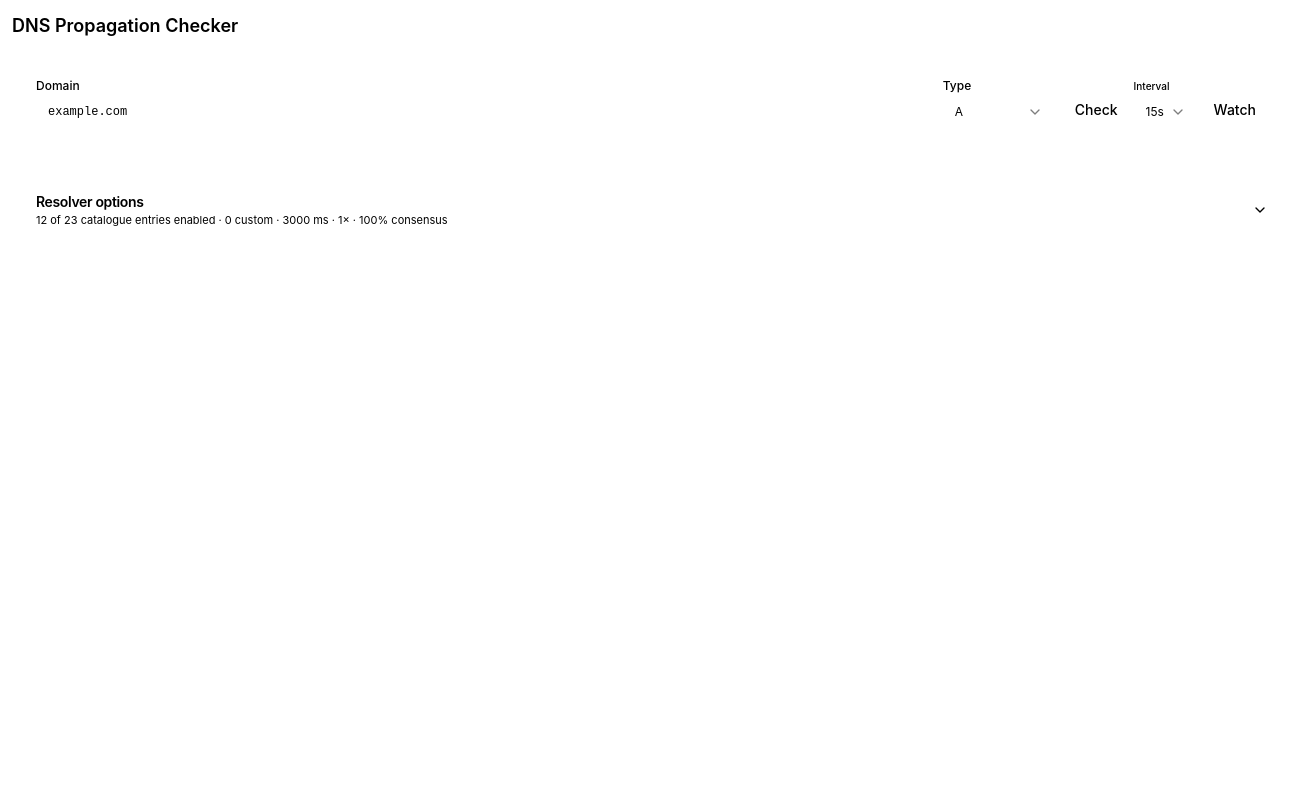
it: reflects settings changed elsewhere via preferences-changed
The image size is (1292, 806).
What coordinates should you click on to do the following:
click the button with test id "propagation-settings-toggle"
I would click on:
 (90, 202)
Its box is x1=36 y1=192 x2=1268 y2=228.
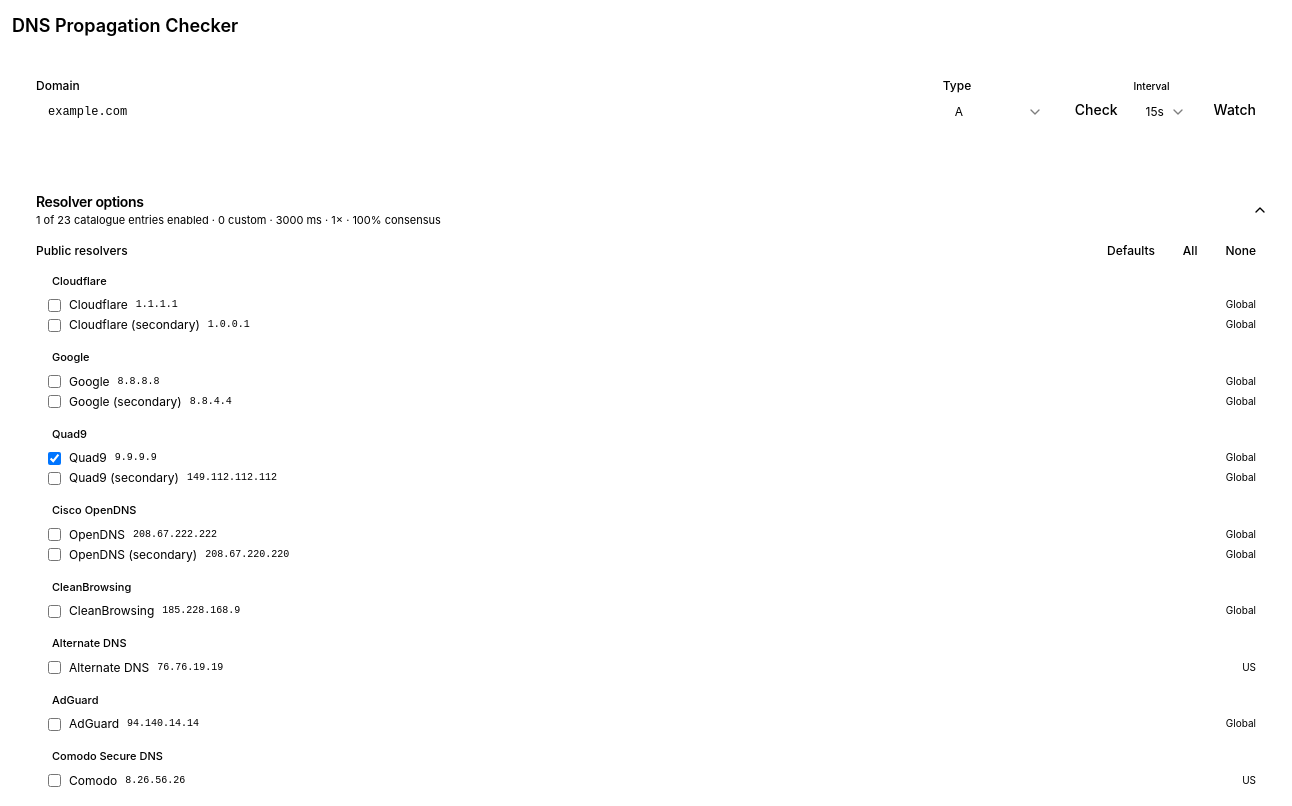
Result: the text with test id "propagation-settings-summary" shows "1 of 23" at x1=36 y1=213 x2=441 y2=227
